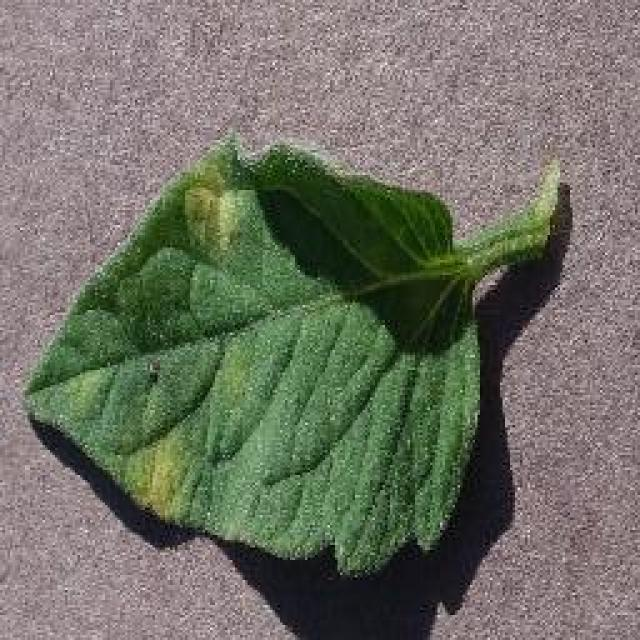Tomato mold leaf: (29, 132, 491, 562)
